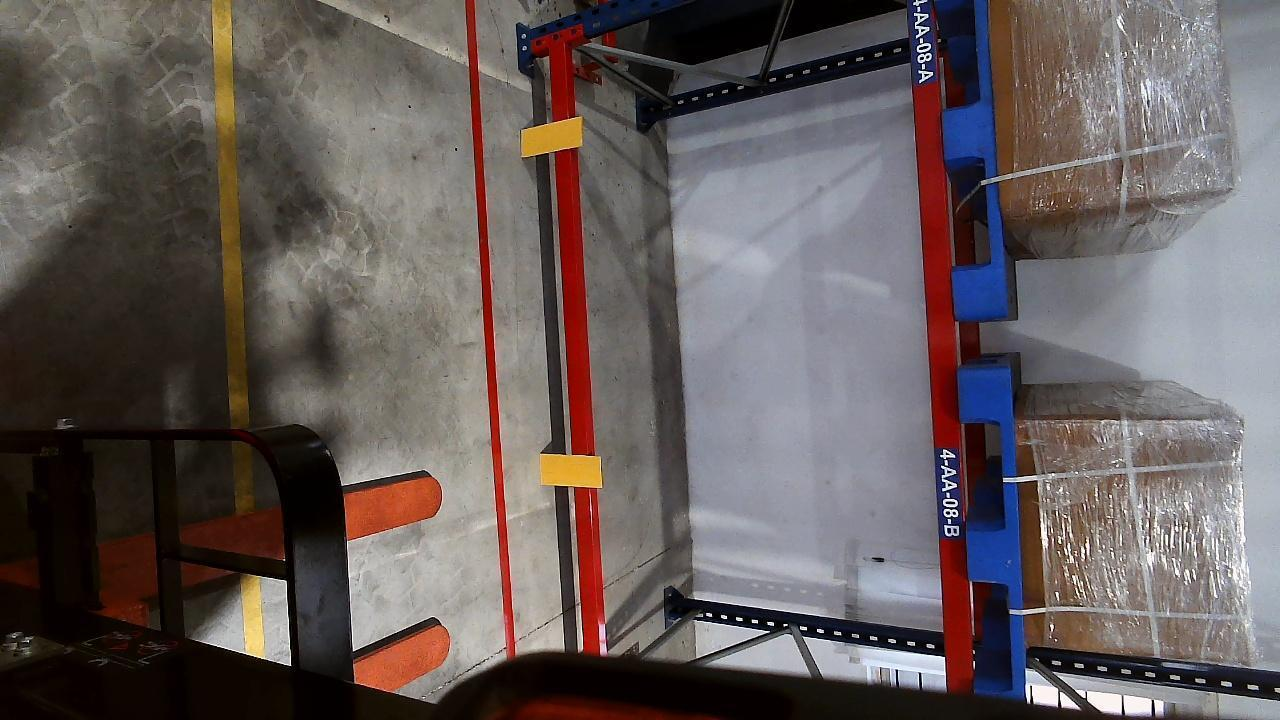red_line: (462, 0, 514, 652)
yellow_line: (212, 1, 252, 428)
